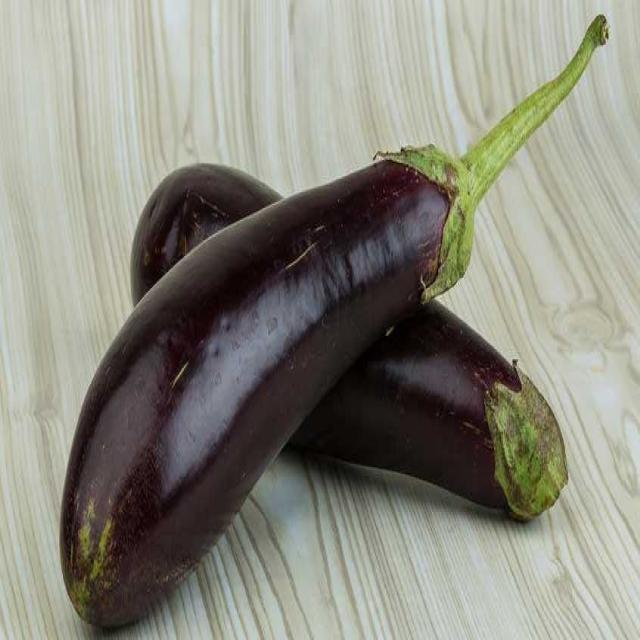Eggplant-r1Ob: (60, 14, 608, 626)
